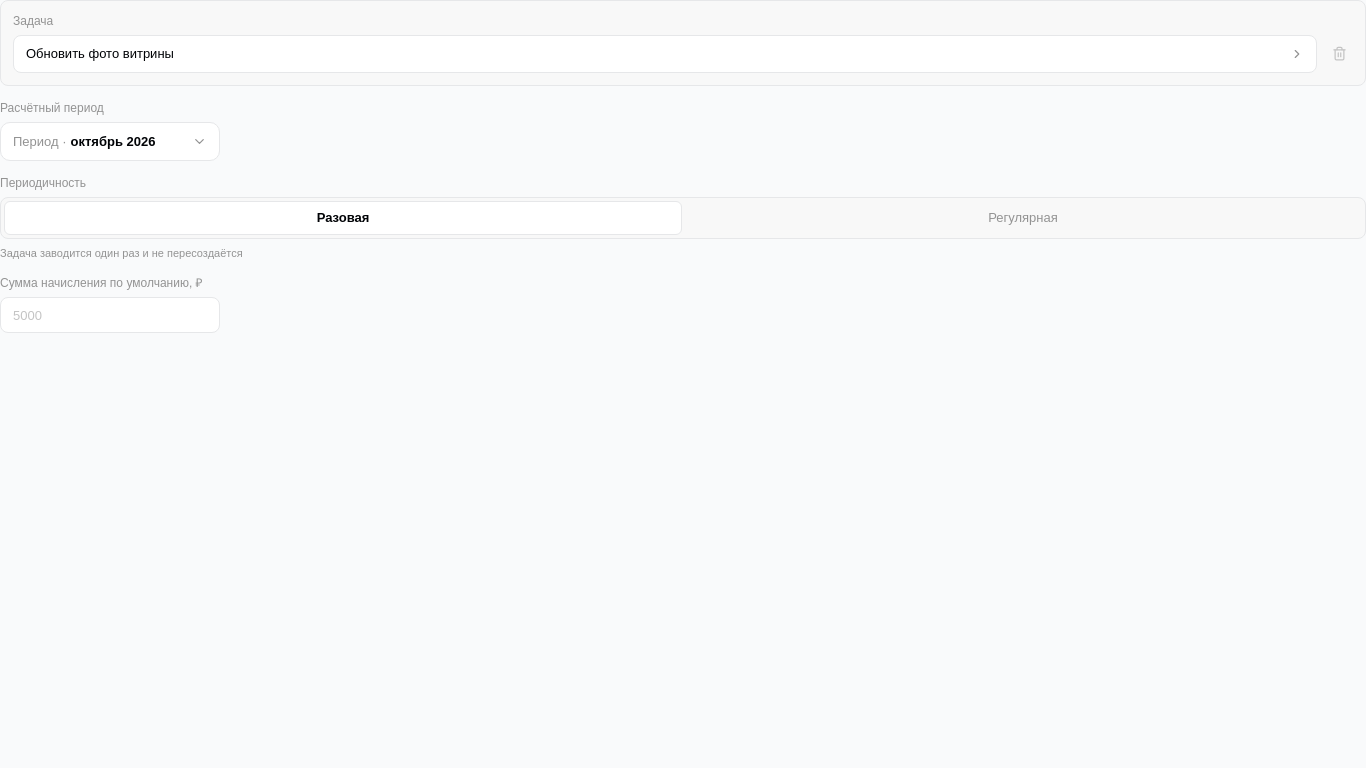
Test: TaskCompletionRuleFields › удаление привязанной задачи › не удаляет задачу и не меняет draft, если отменить подтверждение
The image size is (1366, 768).
Expected: the text "Обновить фото витрины" is shown, [26,44,174,64]
Click the button named "Удалить задачу": (1339, 54) [1325,40,1353,68]
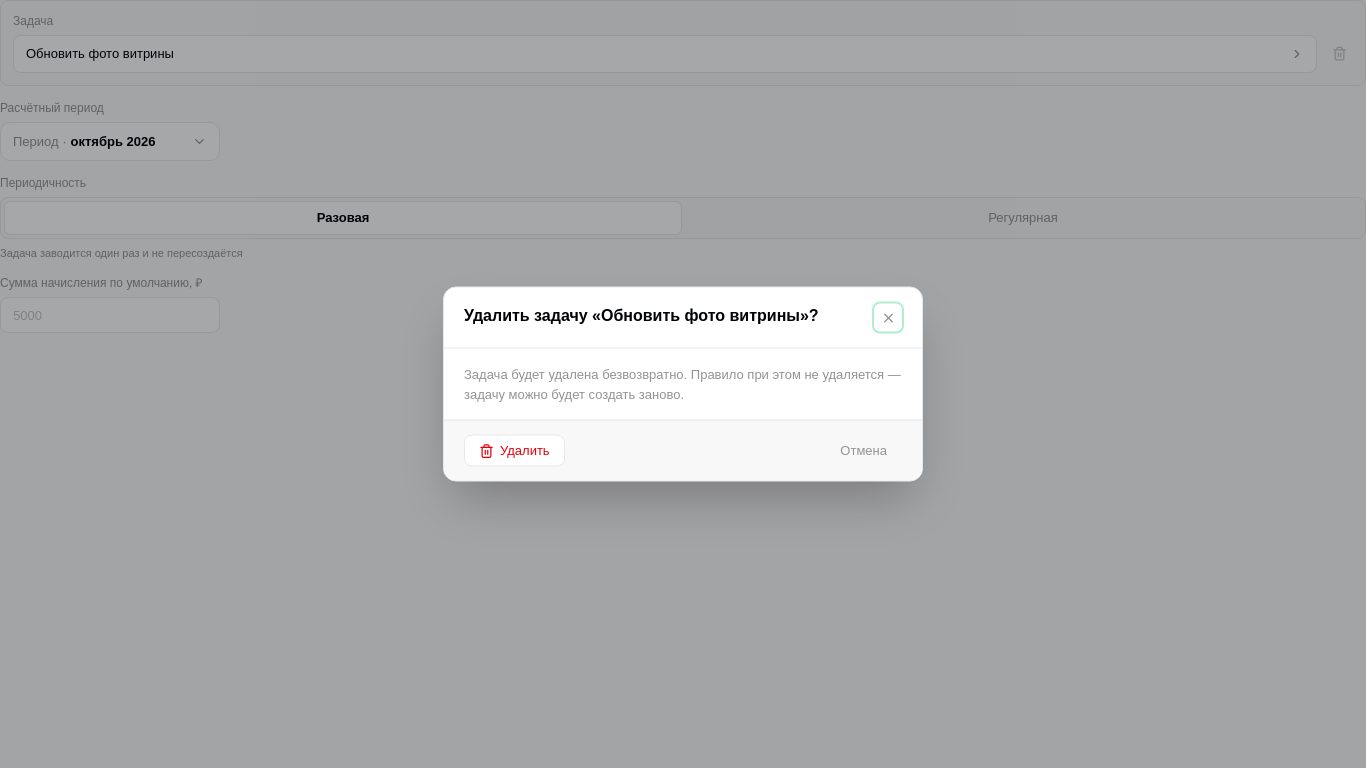
Click the button "Отмена": (864, 450) [825,434,902,466]
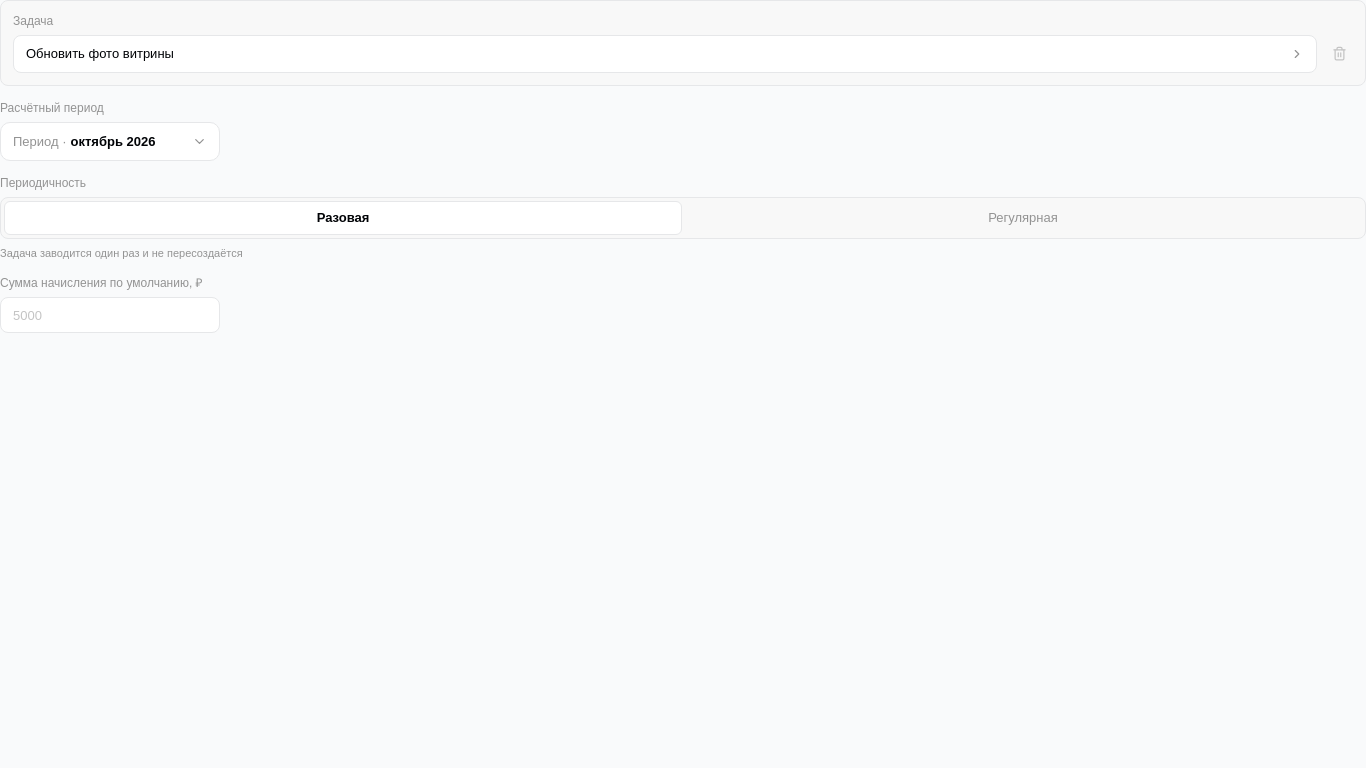
Now the heading "Удалить задачу «Обновить фото витрины»?" is gone
